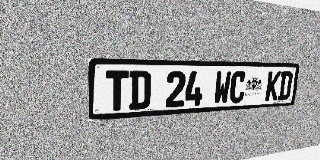2: (165, 71, 186, 108)
4: (184, 71, 204, 106)
C: (229, 71, 247, 104)
D: (129, 71, 151, 110), (277, 71, 293, 100)
K: (265, 71, 281, 101)
T: (106, 71, 129, 111)
W: (213, 71, 232, 105)
